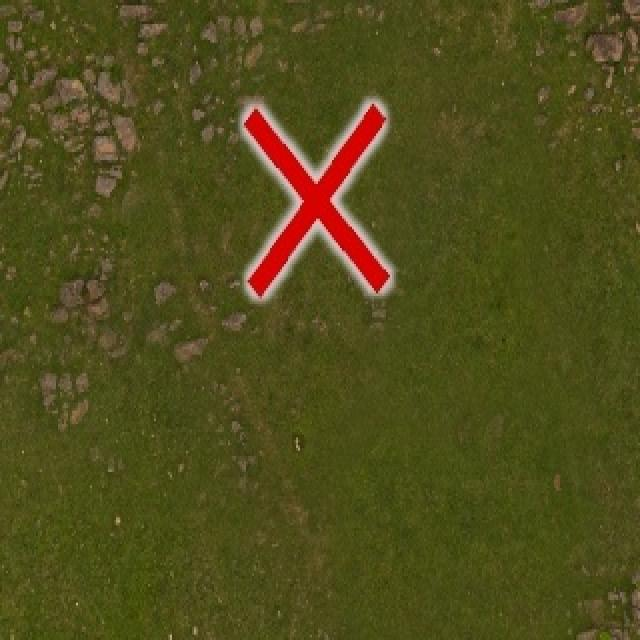x_marker: (243, 103, 389, 294)
